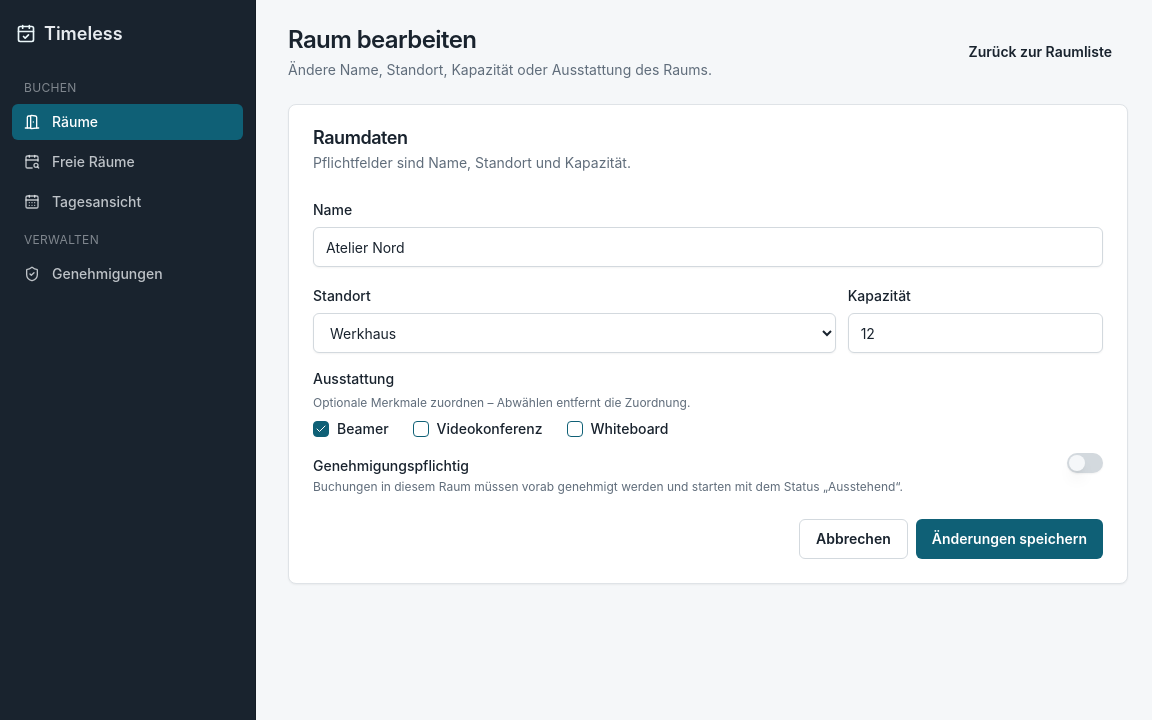
it: RoomForm – Submit-Fehleranzeige (Reject-Case) › zeigt denselben Fehlerpfad im Bearbeiten-Formular bei abgelehntem updateRoom-Request
Expected: the form with test id "room-form" is shown, [313,197,1103,559]
Replace the text in the field with test id "room-name" with "Atelier Süd" at (708, 247), box [313,227,1103,267]
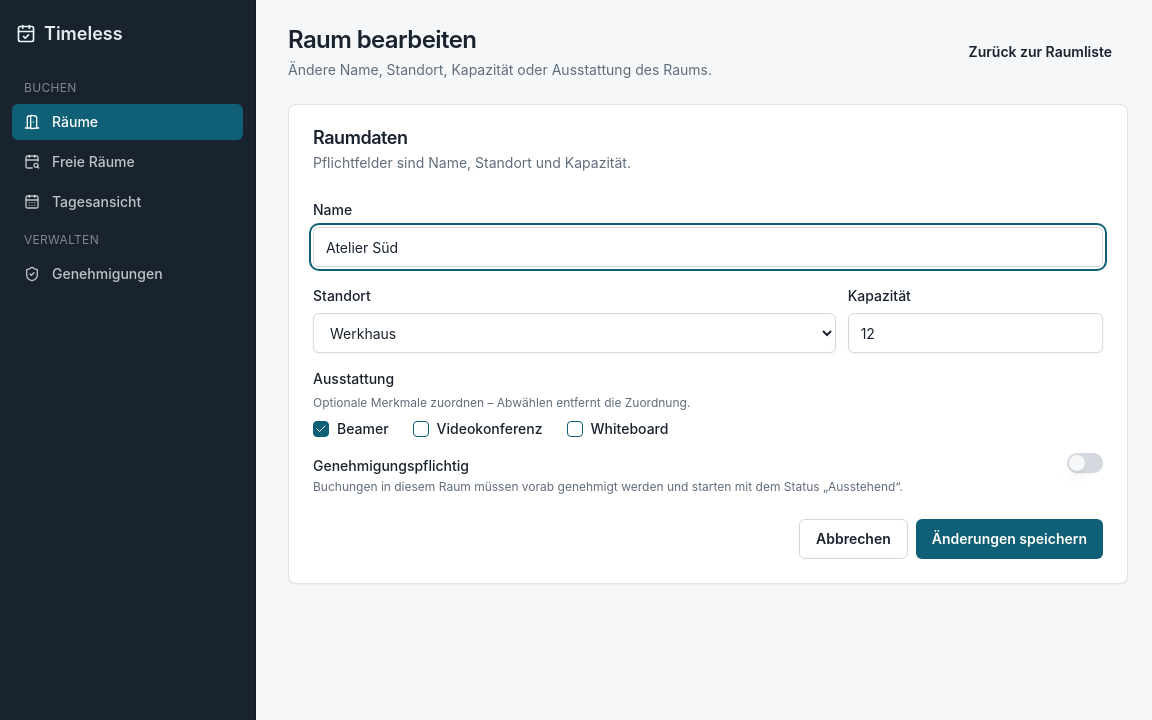
Click the button with test id "room-submit" at (1009, 539), box [916,519,1103,559]
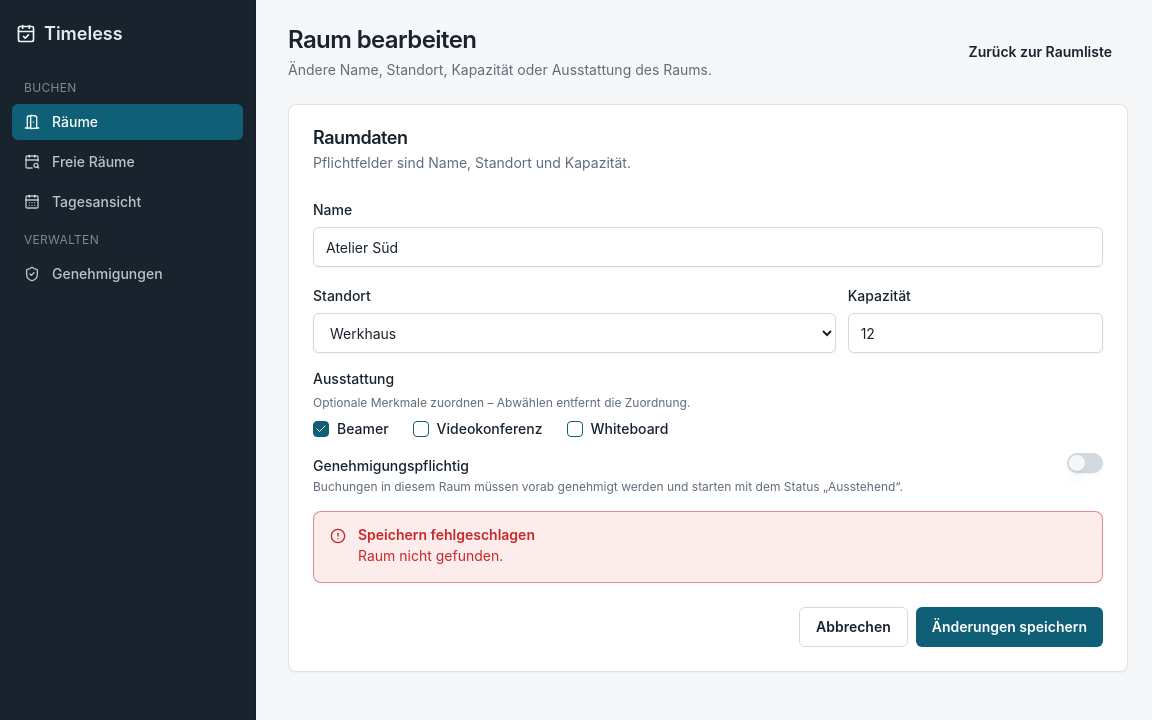
Expected: the button with test id "room-submit" is enabled, [916,607,1103,647]
Result: the message with test id "room-save-error" shows "Speichern fehlgeschlagen" at [358,526,535,543]
Result: the message with test id "room-save-error" shows "Raum nicht gefunden." at [358,547,503,564]
